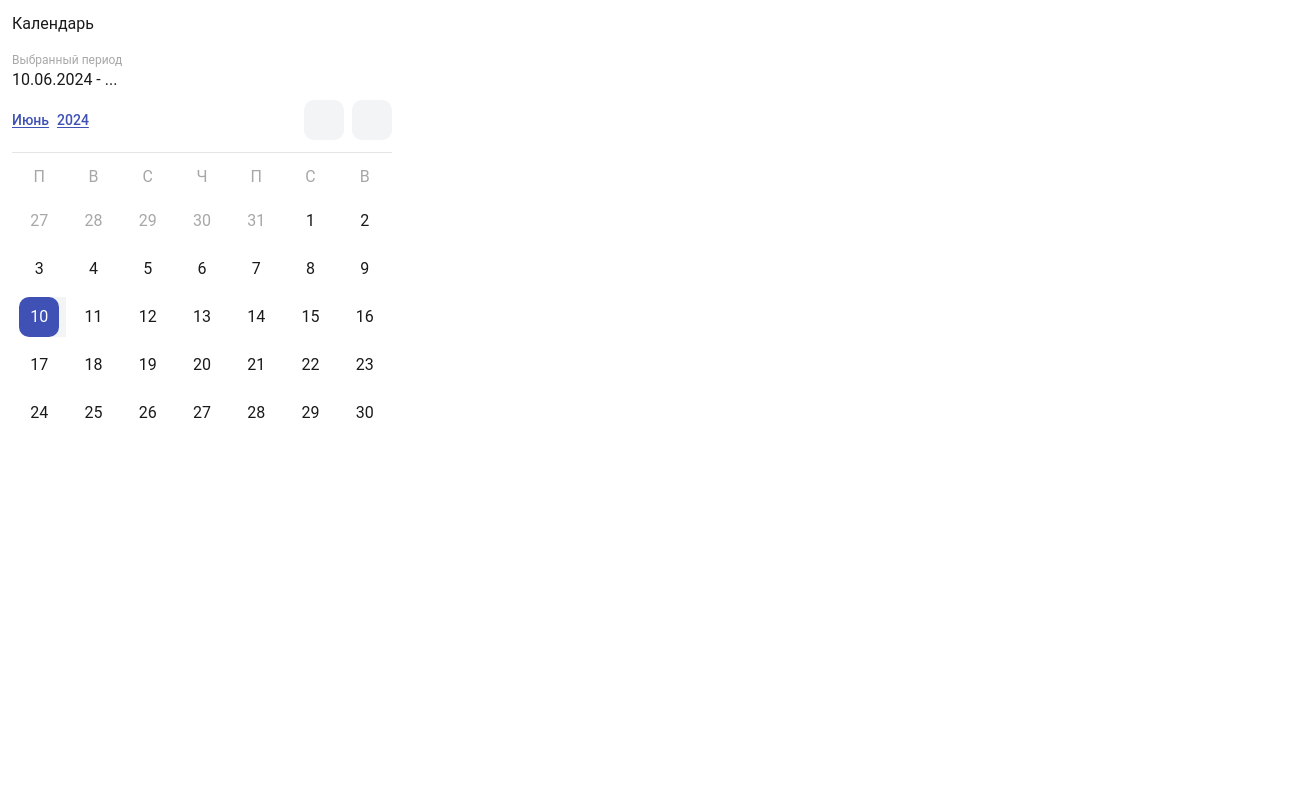
Test: Calendar › closes the active dropdown when clicking outside
Click the button "Июнь" at x=31, y=120, box [12, 110, 49, 130]
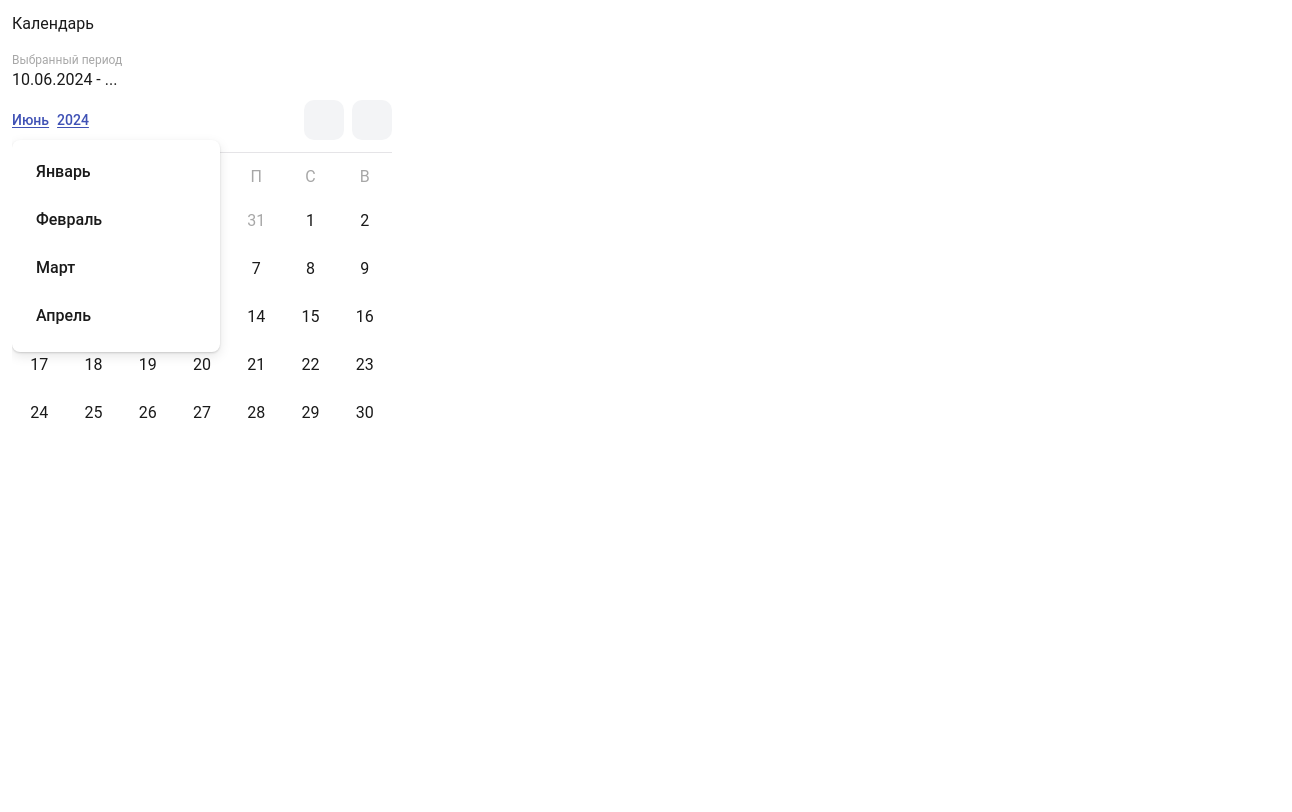
Result: the text "Январь" is shown at [20, 148, 208, 196]
Press the mouse on the element that starts with "Календарь" at x=652, y=412, box [12, 12, 1291, 811]
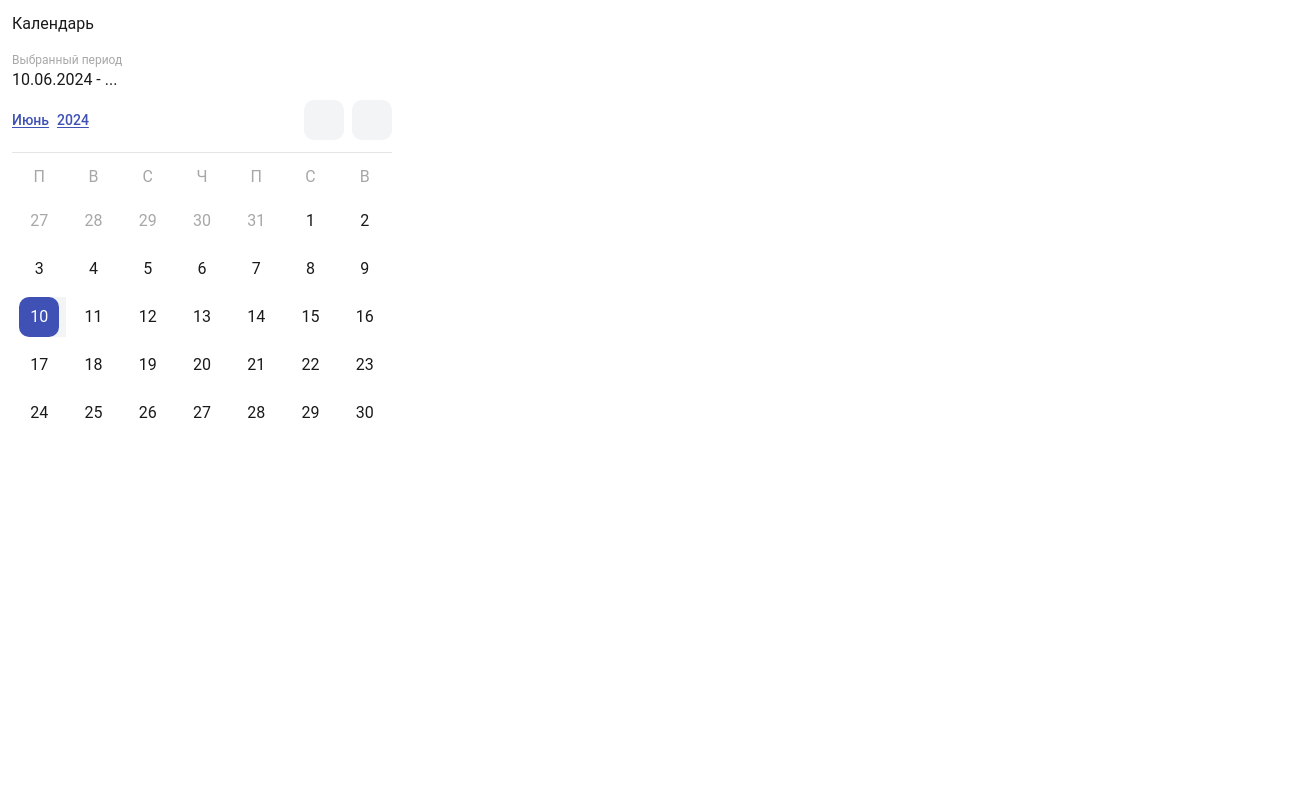
Result: the text "Январь" is gone
